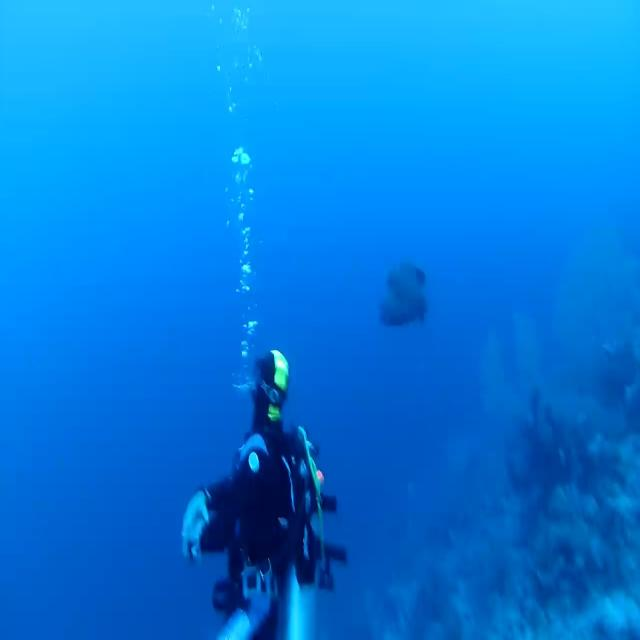Napoleon -Endangered-: (378, 260, 429, 327)
